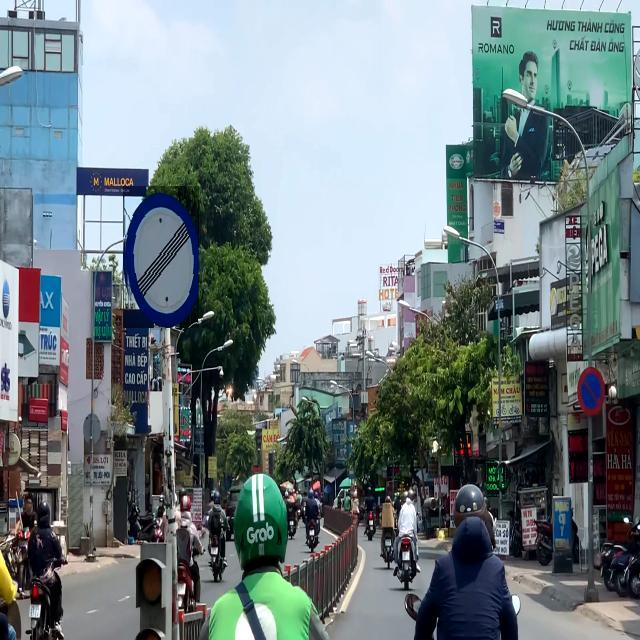DP-135: (124, 186, 200, 328)
P-131a: (578, 368, 604, 415)
